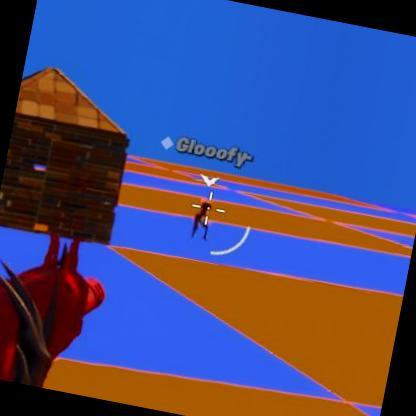person: (194, 202, 209, 234)
